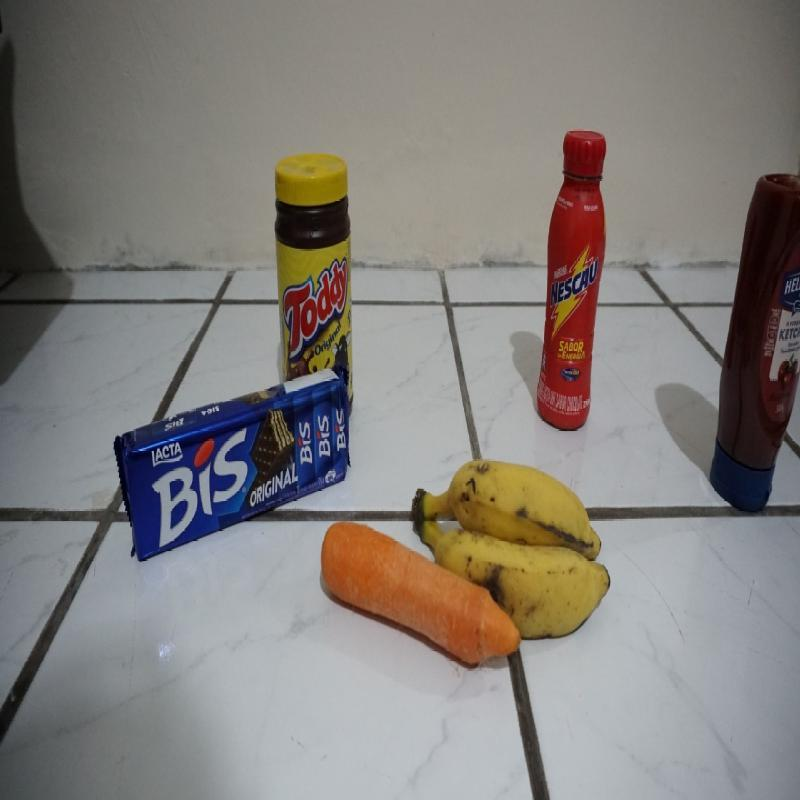Banana: (428, 440, 616, 588)
Carrot: (321, 511, 430, 656)
Chocolate Milk: (536, 125, 602, 427)
Chocolate Powder: (276, 146, 353, 370)
Ketchup: (714, 158, 798, 529)
